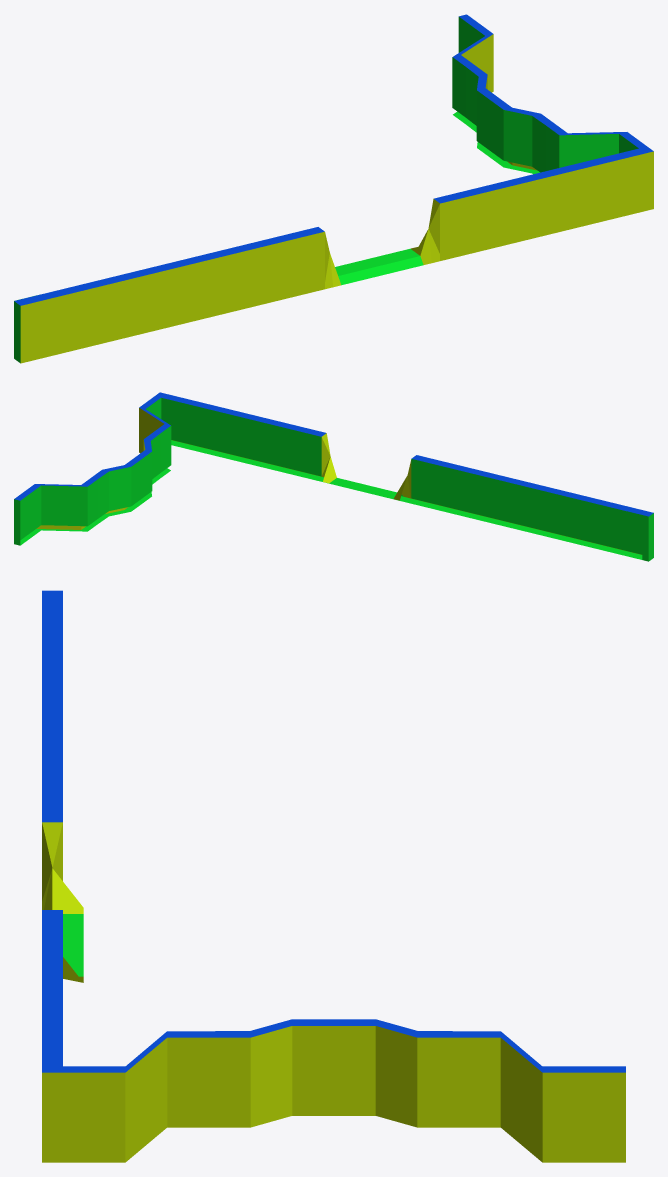
Rendered from comedor2.fbx.
3 renders of one model, top to bottom at view 1: azimuth 30°, elevation 25°; view 2: azimuth 150°, elevation 25°; view 3: azimuth 270°, elevation 25°, orthographic. The views are drawn at different scales.
Visible parts, largest first — view 1: Cube.001; view 2: Cube.001; view 3: Cube.001.
Part boxes in pixels (x1,y1,x2,y2): Cube.001: (14,14,653,363); Cube.001: (14,392,653,561); Cube.001: (42,590,625,1162).
Bounding box in the file's own units: 19.54 × 10 × 1.7.
